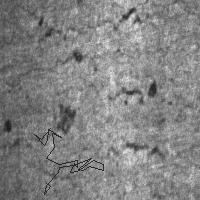crazing: (1, 134, 198, 194), (60, 76, 170, 162), (1, 51, 159, 108), (1, 3, 164, 44), (34, 128, 103, 194)
